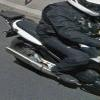Motorcycle: (6, 10, 99, 85)
